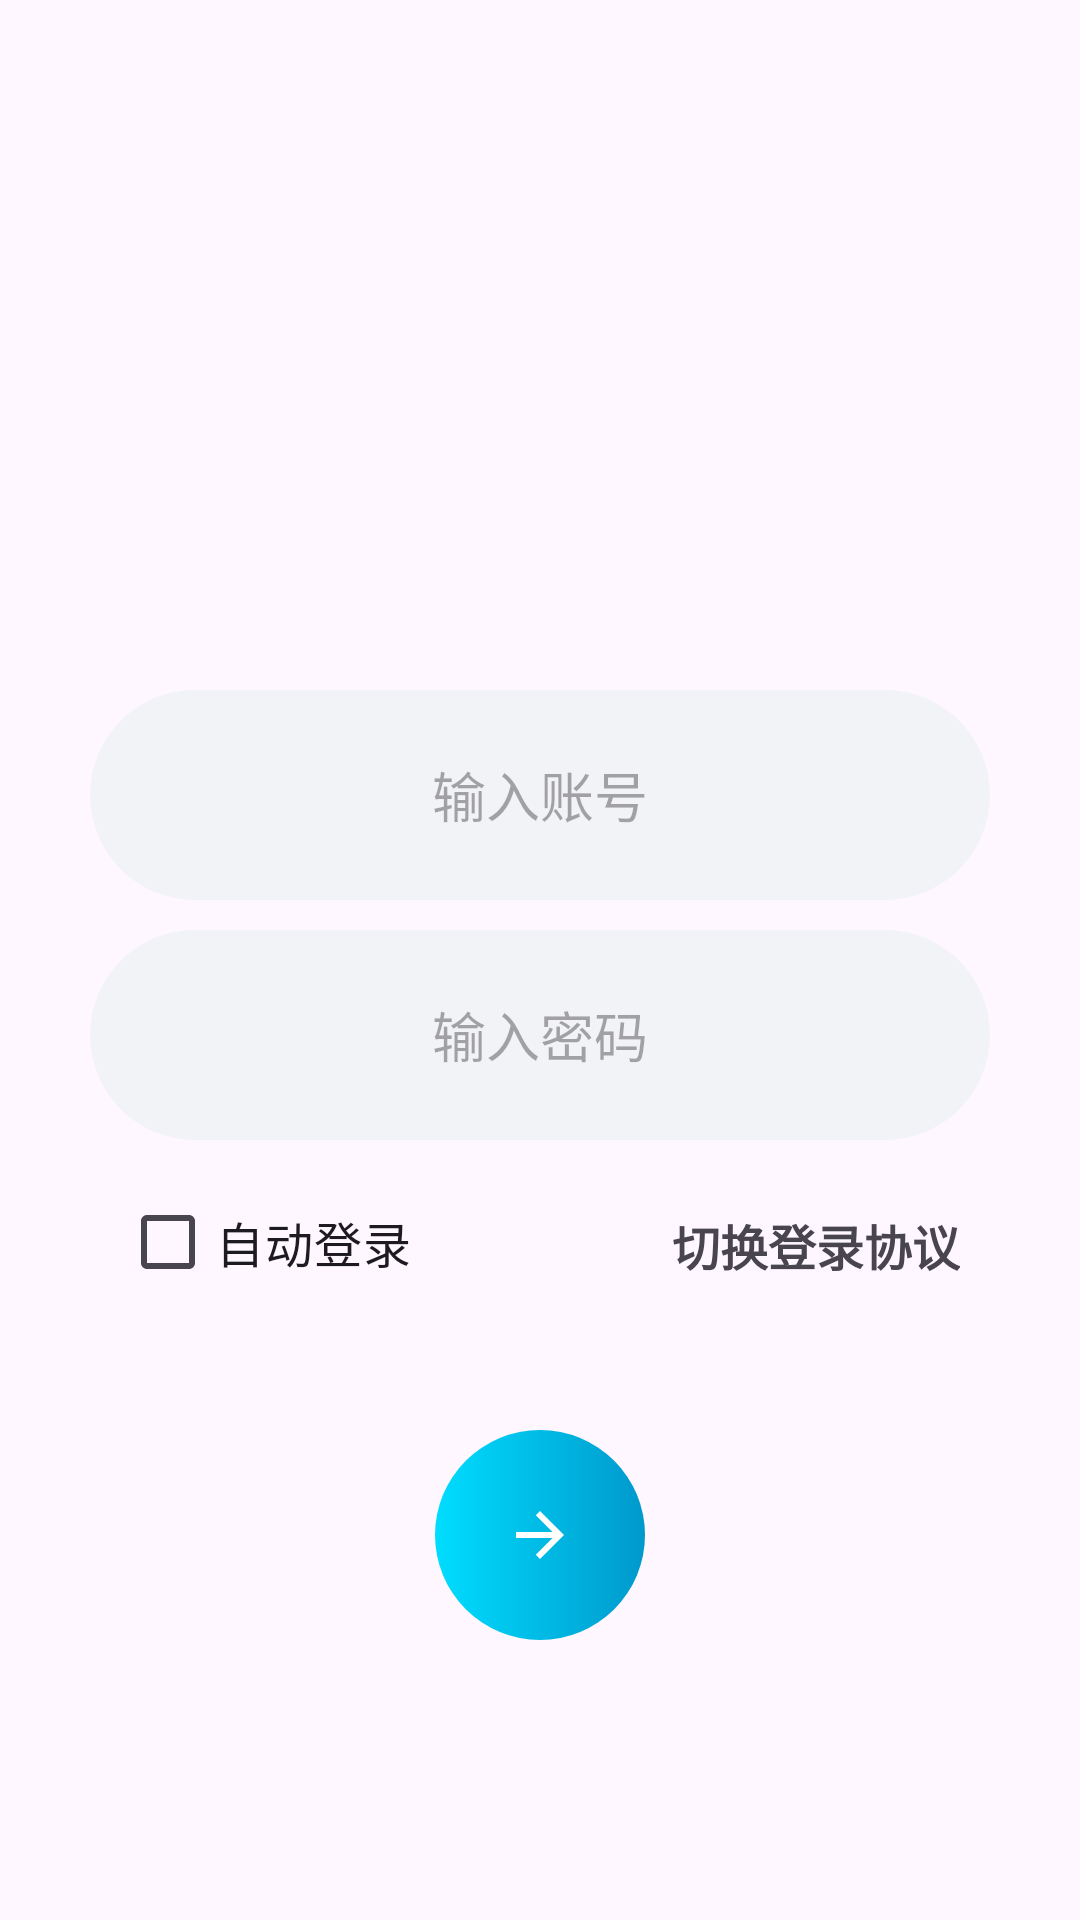

Screen size 1080px×1920px. Icon name, then its center in pixels as (x,y):
login: (540,1535)
